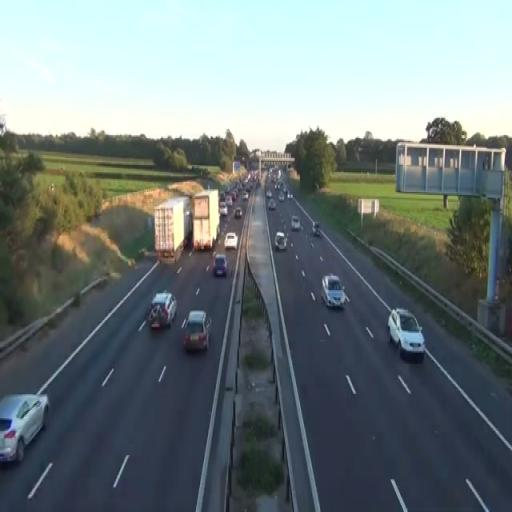Car: (0, 389, 50, 465), (387, 307, 426, 363), (181, 309, 213, 352), (147, 290, 178, 332), (321, 273, 346, 309), (213, 254, 227, 278), (224, 232, 238, 250), (275, 230, 287, 250), (291, 216, 302, 231), (234, 208, 242, 219)
Truck: (153, 198, 193, 264), (193, 190, 220, 252)
